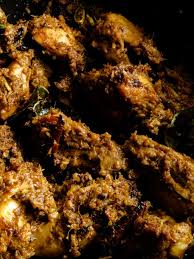rendang: (1, 7, 194, 250)
